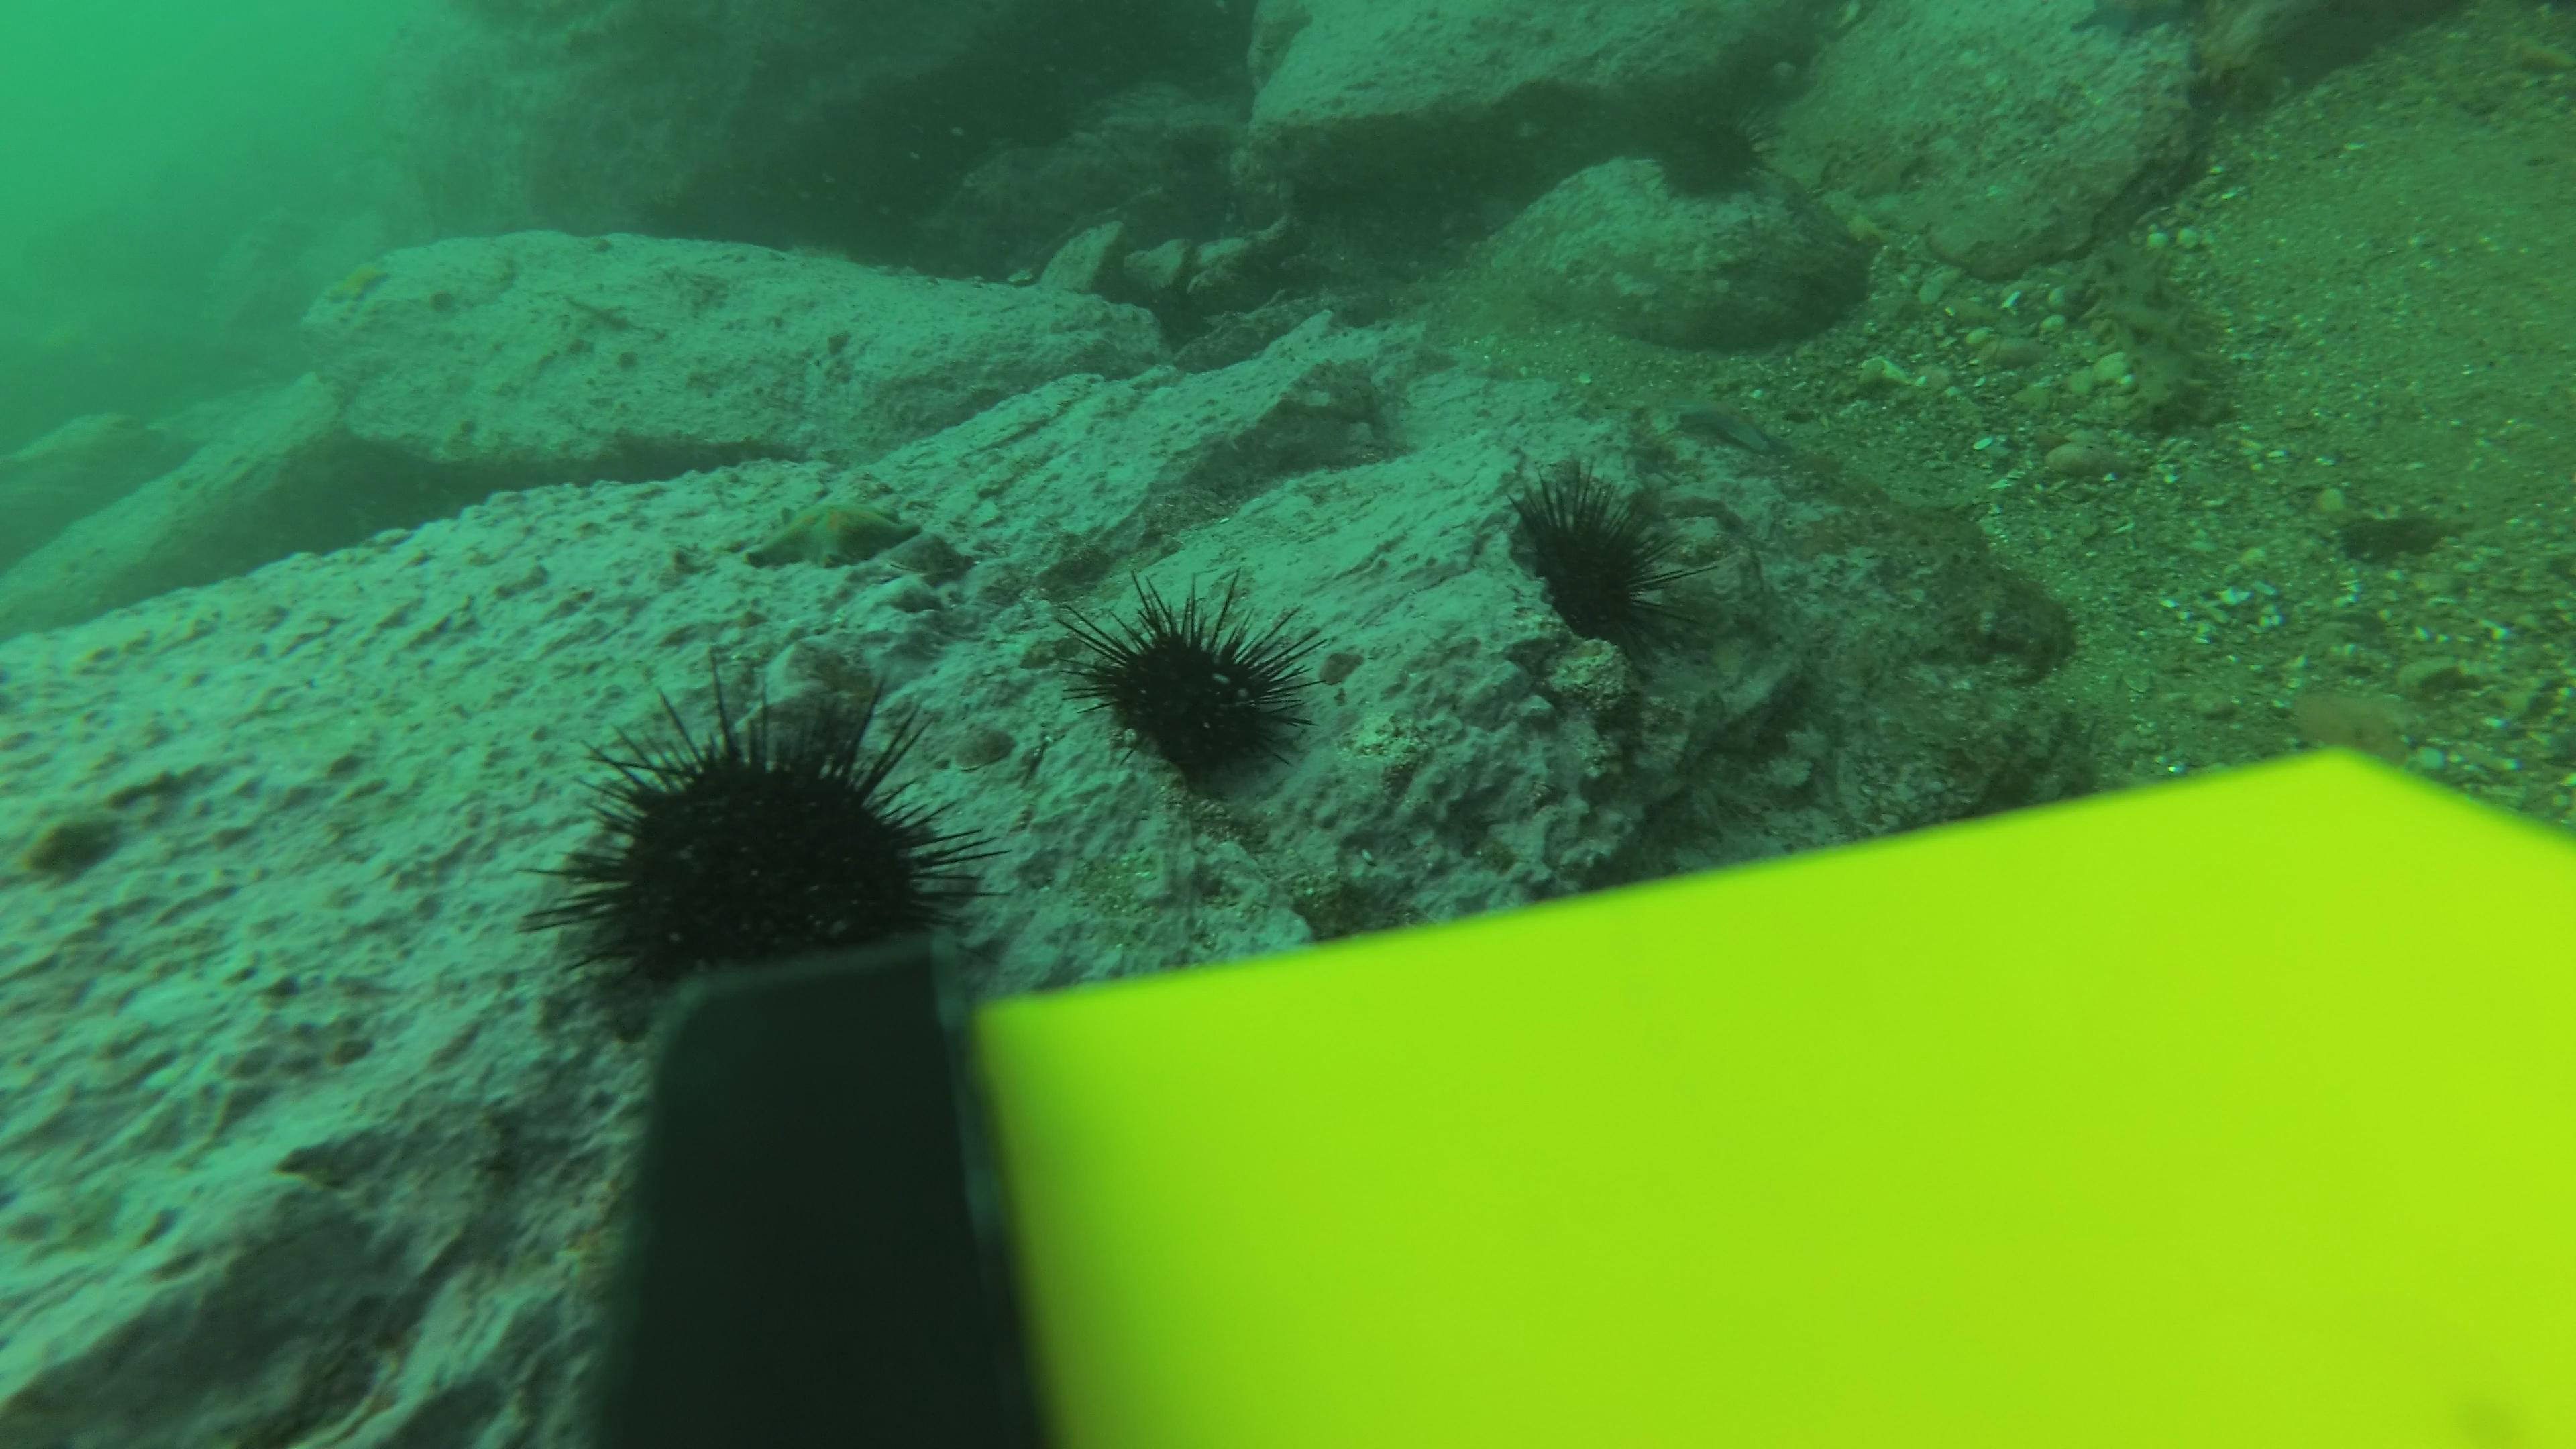urchin: (536, 686, 996, 952), (1086, 573, 1355, 807), (1486, 487, 1658, 640)
